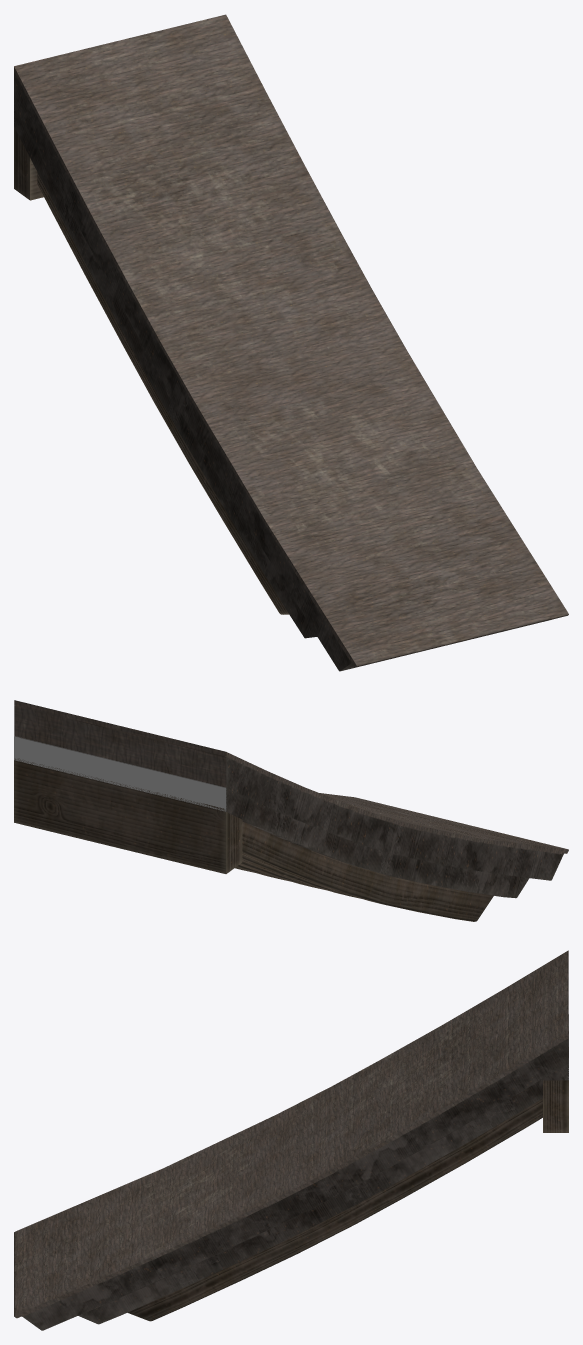
File: ShrineModule_Roof-01.fbx
3 views of the same model, one above another, from view 1: azimuth 30°, elevation 25°; view 2: azimuth 150°, elevation 25°; view 3: azimuth 270°, elevation 25° (orthographic). The views are drawn at different scales.
Parts seen in each view (by area): view 1: ShrineModule_Roof-01; view 2: ShrineModule_Roof-01; view 3: ShrineModule_Roof-01.
Part boxes in pixels (x1,y1,x2,y2): ShrineModule_Roof-01: (14,14,568,671); ShrineModule_Roof-01: (14,700,568,921); ShrineModule_Roof-01: (14,950,568,1330).
Bounding box in the file's own units: 1.5 × 2.48 × 4.2.
